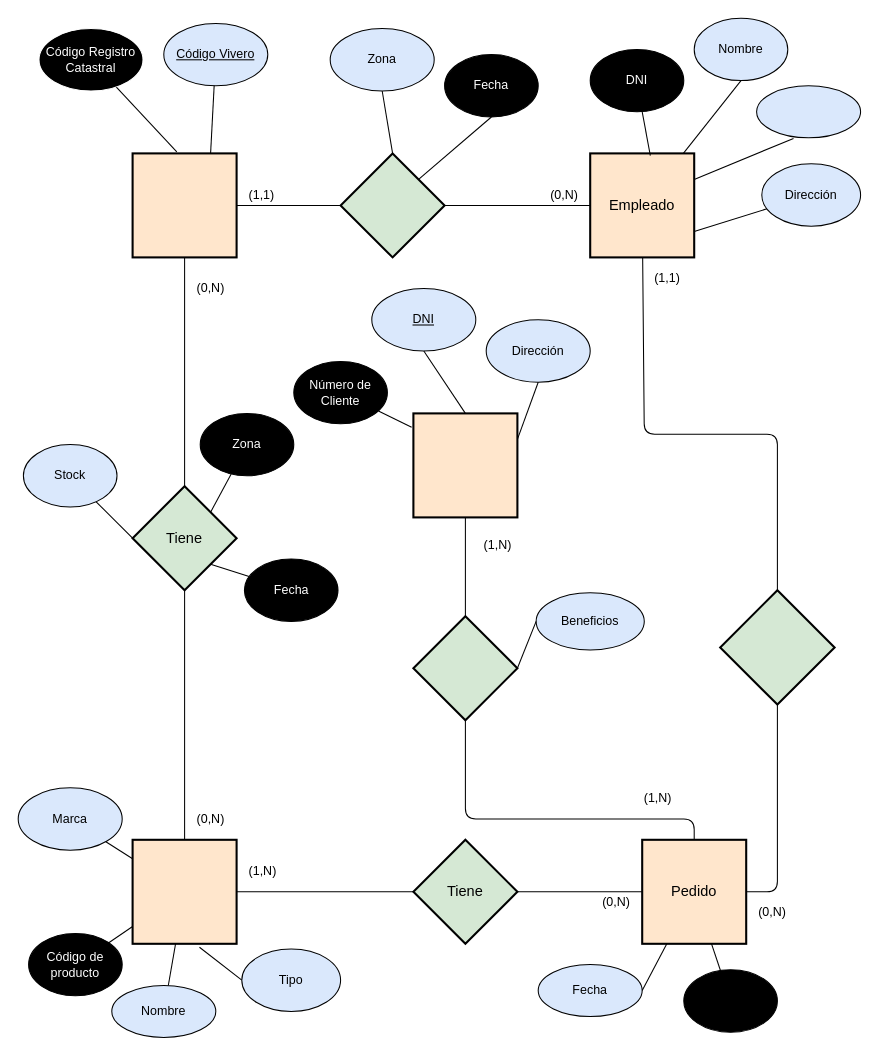
The diagram is 879 pixels wide and 1056 high, and some of its shapes have lost their labels. Each missing label, with the centre of its shape:
Cliente Tajinaste Plus: pixel 465 465
Código de Pedido: pixel 730 1000
Es Asignado: pixel 392 205
Es Responsable: pixel 777 647
Función: pixel 808 111
Hace: pixel 465 668
Productos: pixel 184 891
Vivero: pixel 184 205
